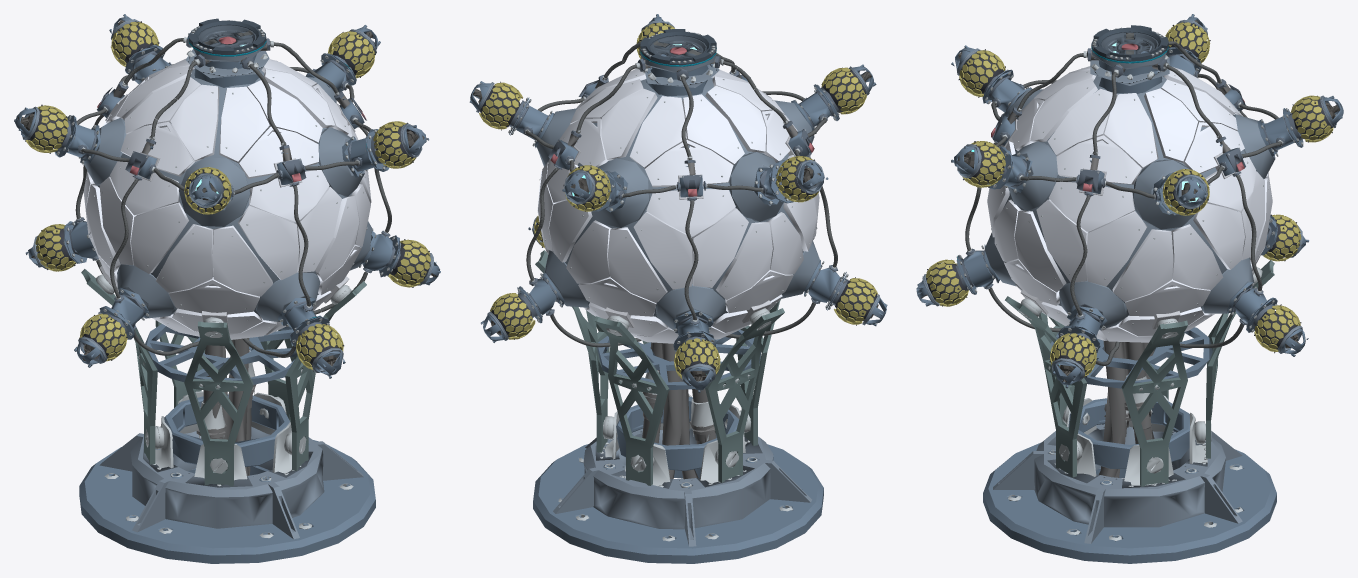
The picture shows the model from 3 angles, left to right: view 1: azimuth 30°, elevation 25°; view 2: azimuth 150°, elevation 25°; view 3: azimuth 270°, elevation 25°; orthographic projection. The views are drawn at different scales.
Visible parts, largest first — view 1: polySurface2349; view 2: polySurface2349; view 3: polySurface2349.
Boxes of the visible parts, x1=… form: polySurface2349: x1=14, y1=14, x2=440, y2=563; polySurface2349: x1=469, y1=14, x2=887, y2=563; polySurface2349: x1=916, y1=14, x2=1343, y2=563.
Size of the model in its own units: 3.37 by 4.15 by 3.49.
